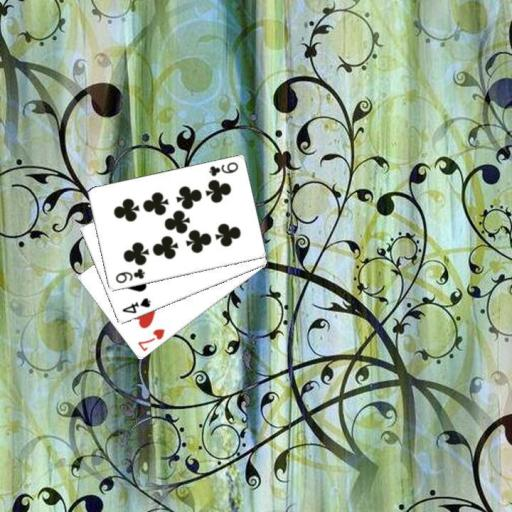4S: (119, 295, 152, 315)
7H: (135, 326, 167, 353)
9C: (113, 265, 147, 285), (206, 159, 240, 178)
